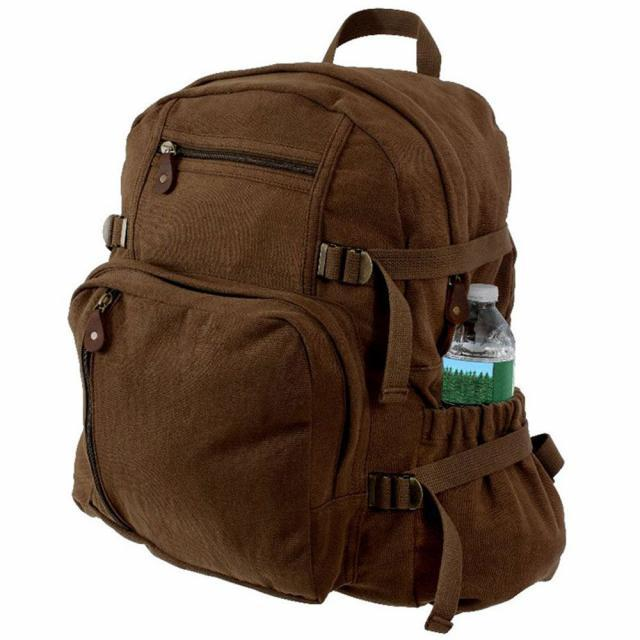Backpacks: (70, 58, 570, 611)
